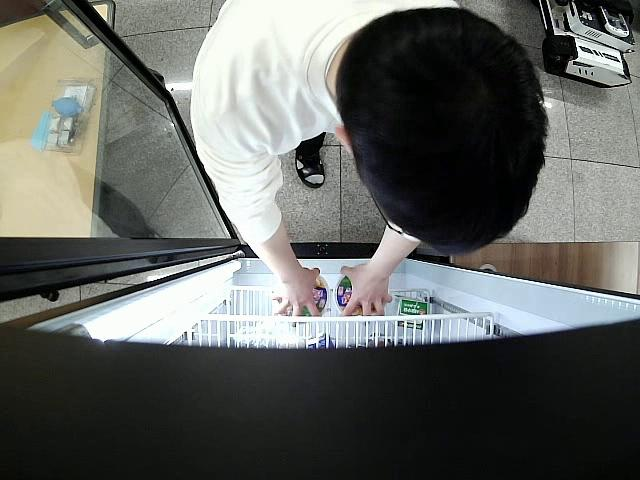00_hand: (339, 262, 395, 317), (269, 266, 321, 323)
09_yukGaeJang: (279, 271, 329, 320), (335, 272, 374, 317)
